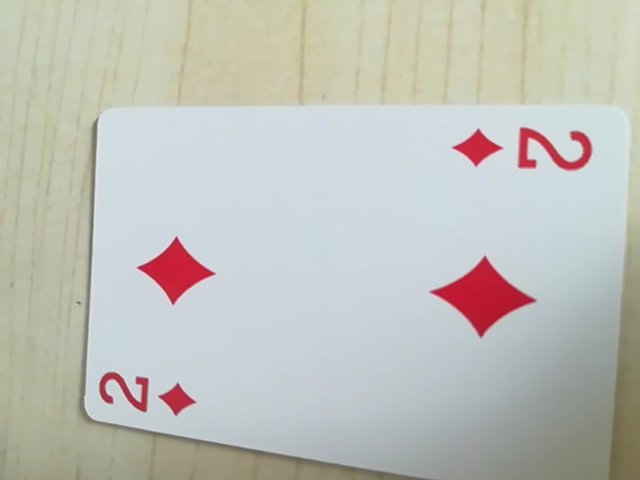fk 2: (450, 122, 596, 181), (95, 362, 207, 425)
